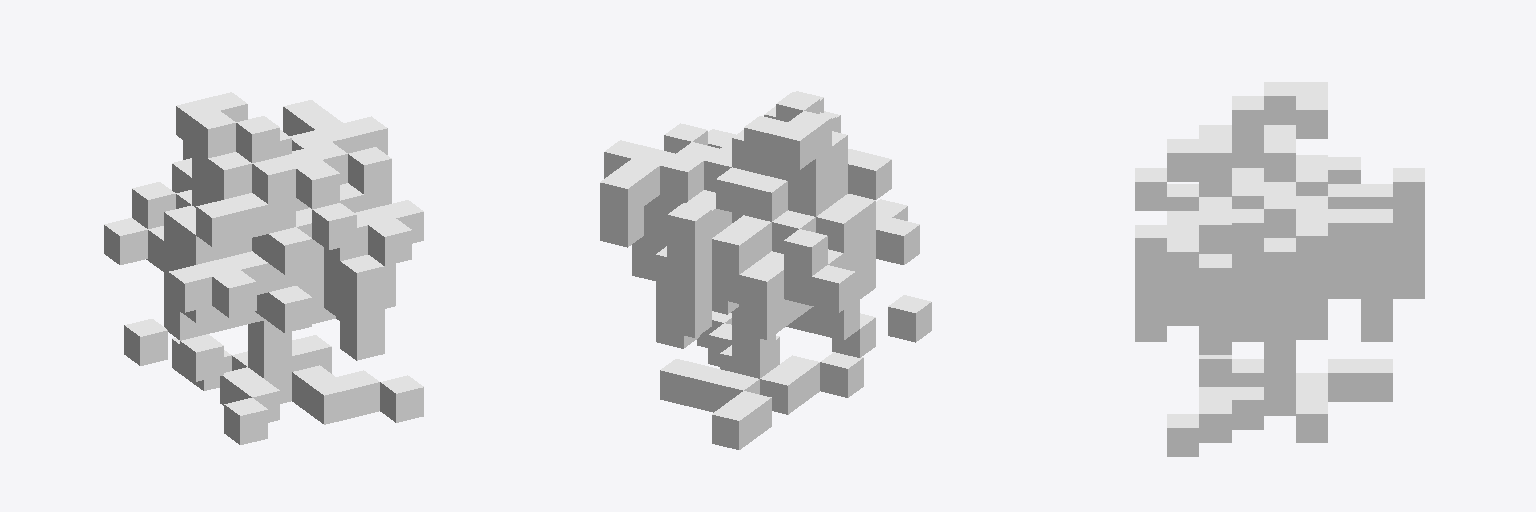
File: start_end-1.obj
3 renders of one model, left to right at view 1: azimuth 30°, elevation 25°; view 2: azimuth 150°, elevation 25°; view 3: azimuth 270°, elevation 25°, orthographic.
Parts seen in each view (by area): view 1: object 1; view 2: object 1; view 3: object 1.
Boxes of the visible parts, x1,y1,x2,y2 form: object 1: [104, 92, 423, 444]; object 1: [600, 91, 931, 449]; object 1: [1135, 82, 1424, 456].
Size of the model in its own units: 1 by 1 by 0.9.